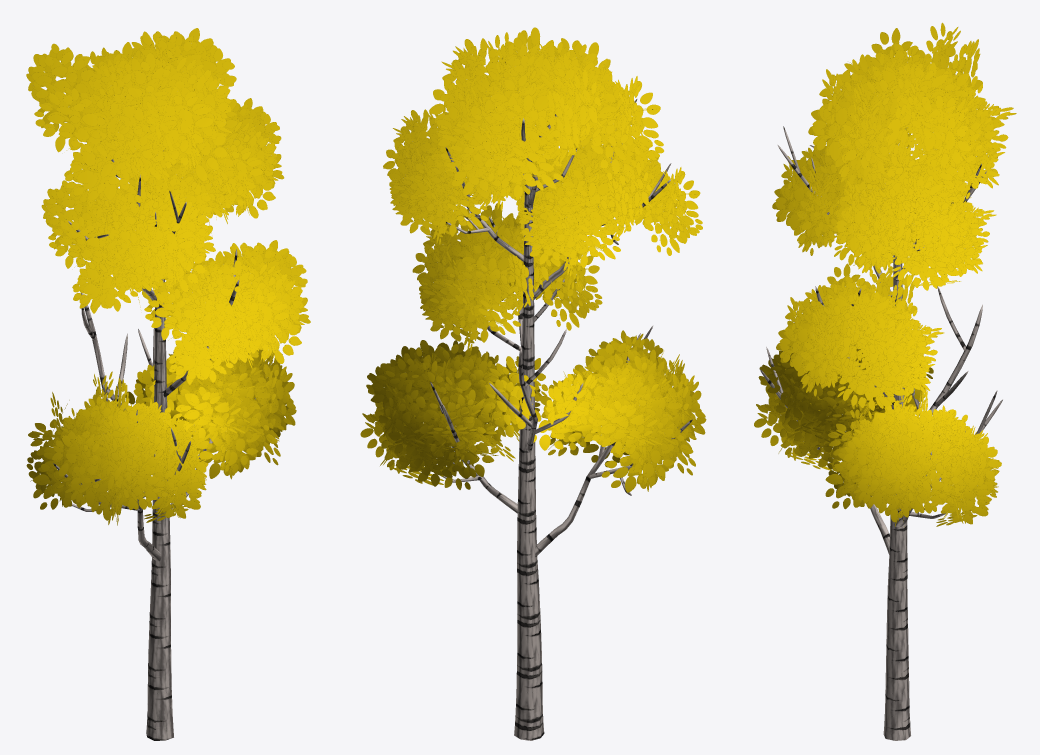
Rendered from texturedBirchTall.glb.
The picture shows the model from 3 angles, left to right: view 1: azimuth 30°, elevation 25°; view 2: azimuth 150°, elevation 25°; view 3: azimuth 270°, elevation 25°; orthographic projection. The views are drawn at different scales.
Visible parts, largest first — view 1: BirchTree_2; view 2: BirchTree_2; view 3: BirchTree_2.
Part boxes in pixels (left/top/right/bottom): BirchTree_2: left=26, top=28, right=310, bottom=740; BirchTree_2: left=360, top=27, right=706, bottom=740; BirchTree_2: left=754, top=22, right=1016, bottom=740.
Size of the model in its own units: 335 by 757 by 281.
2 materials, 2 textured.
